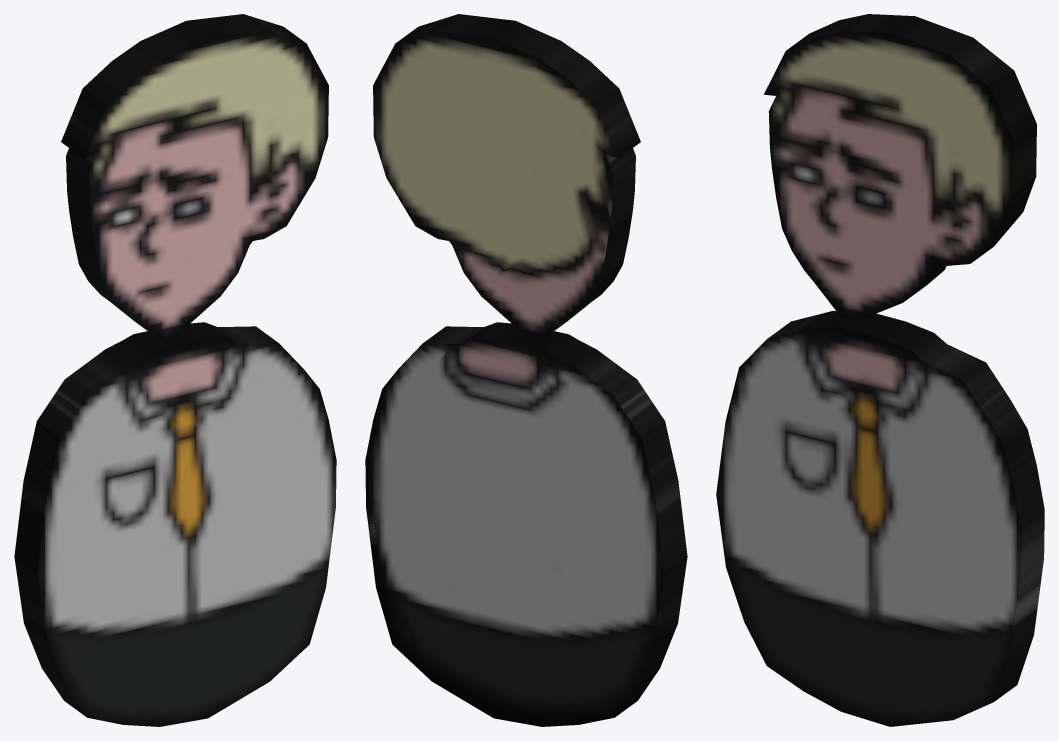
The model's file is Camicia_uomo2.fbx.
3 renders of one model, left to right at view 1: azimuth 30°, elevation 25°; view 2: azimuth 150°, elevation 25°; view 3: azimuth 330°, elevation 25°, orthographic.
Parts seen in each view (by area): view 1: polySurface12; view 2: polySurface12; view 3: polySurface12.
Boxes of the visible parts, bbox=[...] form: polySurface12: bbox=[14, 14, 336, 726]; polySurface12: bbox=[365, 14, 687, 726]; polySurface12: bbox=[716, 14, 1044, 726].
Size of the model in its own units: 0.289 by 0.6284 by 0.0388.
